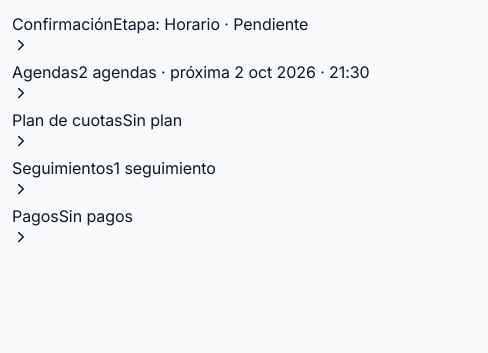
Test: los seguimientos del historial › quien no puede reportar ve el estado pero no lo corrige ni agenda otro
The image size is (488, 353).
Step 1. Click the button "Seguimientos1 seguimiento" → (114,177), box [12, 156, 216, 198]
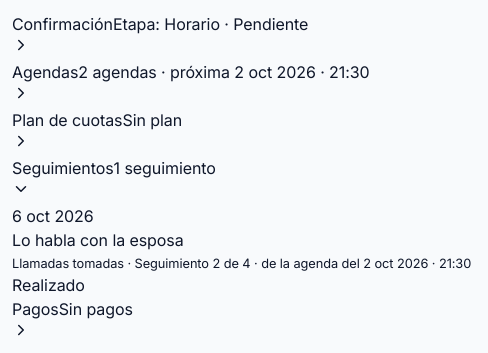
Expected: the text "Realizado" is shown, [12, 275, 85, 295]
